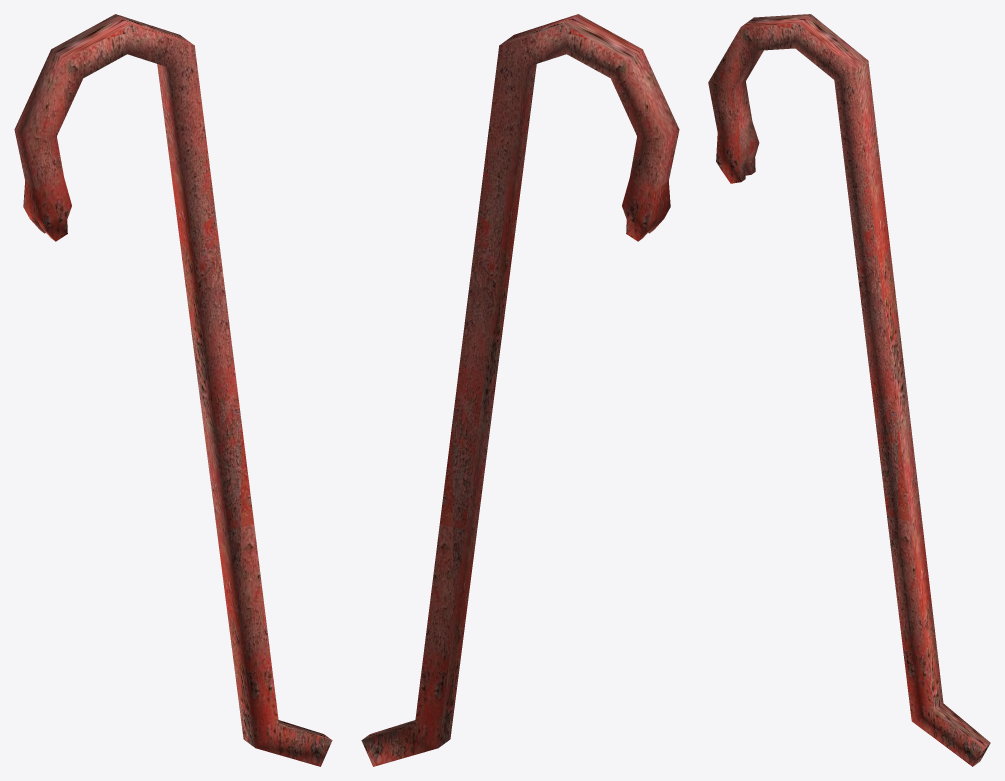
Rendered from crowbar.FBX.
3 views of the same model, side by side, from view 1: azimuth 30°, elevation 25°; view 2: azimuth 150°, elevation 25°; view 3: azimuth 330°, elevation 25° (orthographic). The views are drawn at different scales.
Visible parts, largest first — view 1: crowbar; view 2: crowbar; view 3: crowbar.
Part boxes in pixels (x1,y1,x2,y2): crowbar: (14, 14, 332, 766); crowbar: (361, 14, 679, 766); crowbar: (708, 14, 990, 766).
Bounding box in the file's own units: 22.95 × 56.65 × 2.91.
